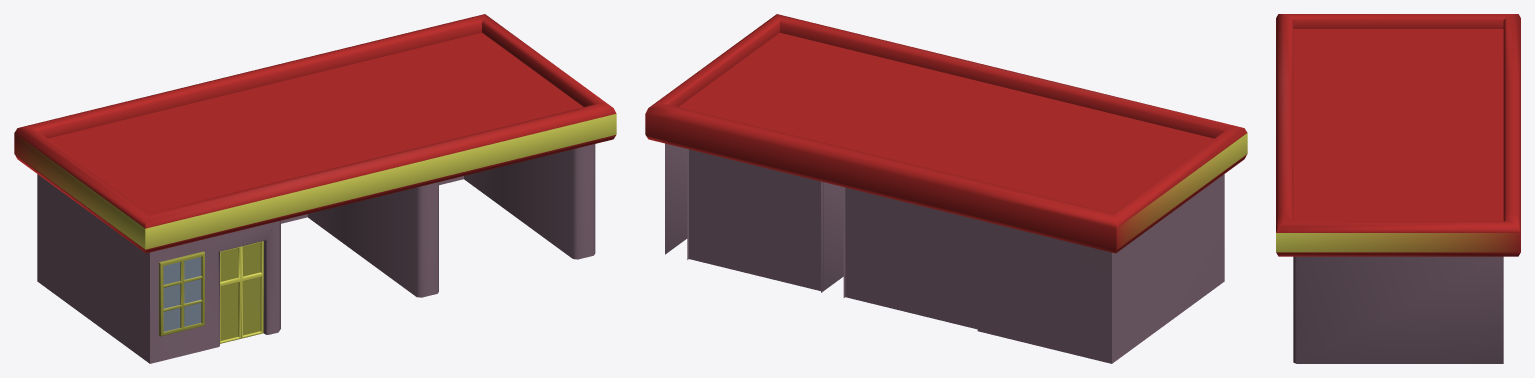
Rendered from oficina_m.fbx.
3 views of the same model, side by side, from view 1: azimuth 30°, elevation 25°; view 2: azimuth 150°, elevation 25°; view 3: azimuth 270°, elevation 25° (orthographic). The views are drawn at different scales.
Visible parts, largest first — view 1: Oficina.M; view 2: Oficina.M; view 3: Oficina.M.
Part boxes in pixels (left/top/right/bottom): Oficina.M: left=14, top=14, right=616, bottom=363; Oficina.M: left=645, top=14, right=1247, bottom=363; Oficina.M: left=1276, top=14, right=1520, bottom=363.
Size of the model in its own units: 2106 by 652 by 1014.
